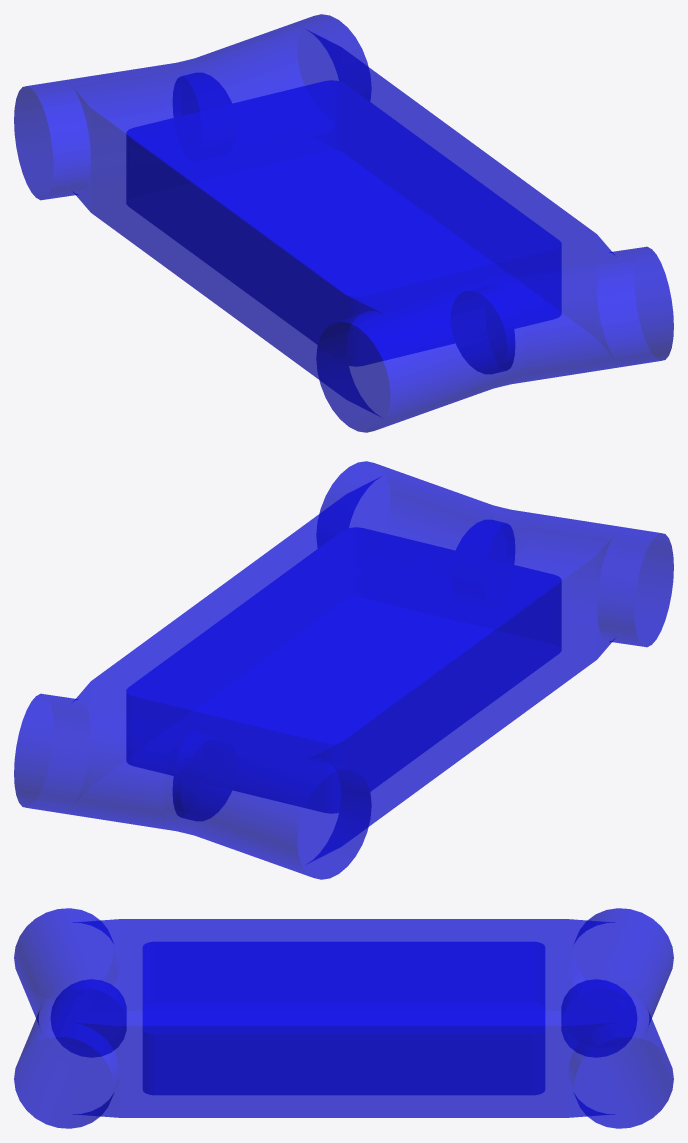
File: soft_body_v2_simplified_10deg.obj
3 views of the same model, one above another, from view 1: azimuth 30°, elevation 25°; view 2: azimuth 150°, elevation 25°; view 3: azimuth 270°, elevation 25° (orthographic). The views are drawn at different scales.
Parts seen in each view (by area): view 1: Solid1; view 2: Solid1; view 3: Solid1.
Boxes of the visible parts, x1,y1,x2,y2 form: Solid1: (14,14,673,432); Solid1: (14,461,673,879); Solid1: (14,908,673,1128).
Bounding box in the file's own units: 191 × 60 × 391.
